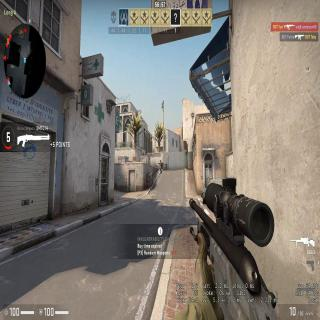T-Body: (159, 160, 162, 173)
T-Head: (160, 160, 161, 162)
